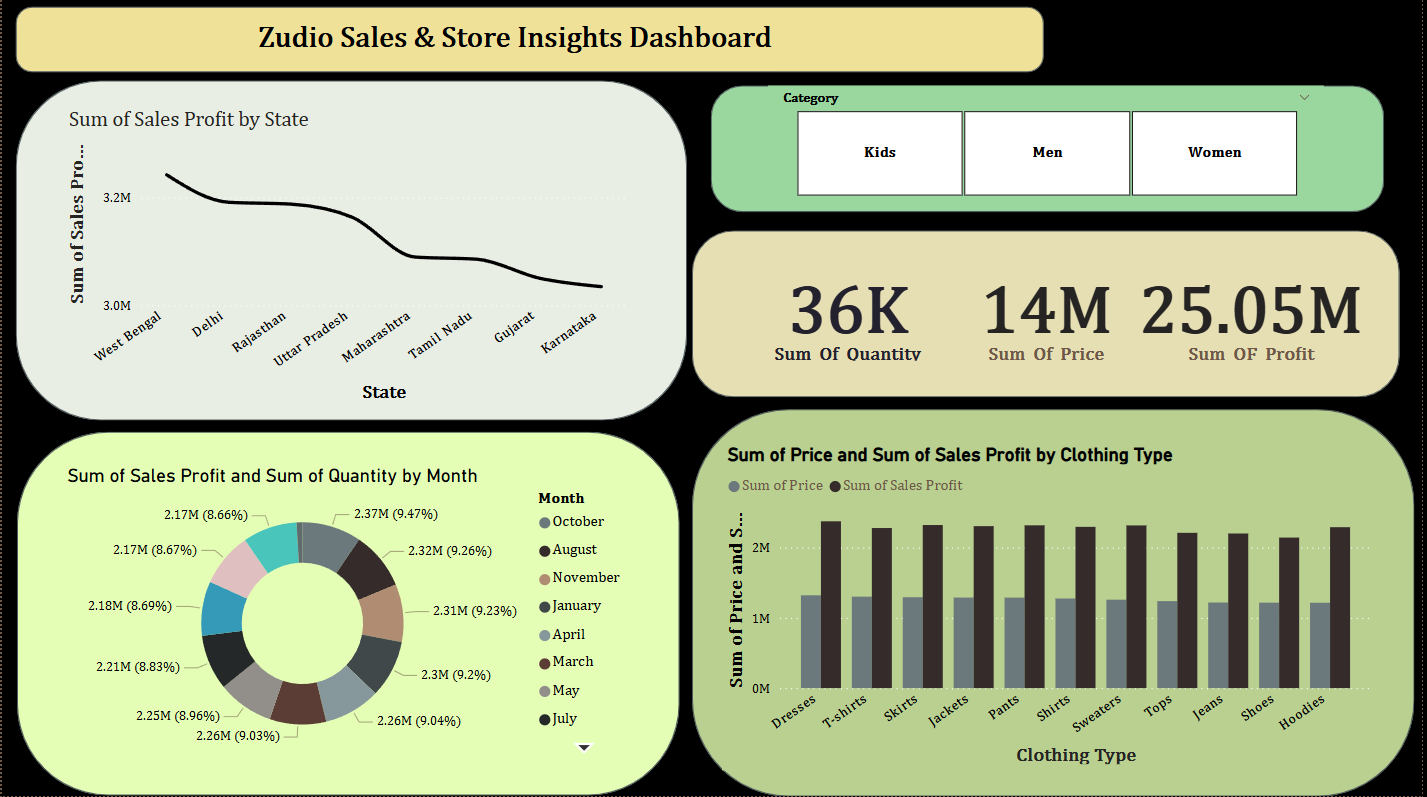

The dashboard page shown, as its layout file describes it:
{"tool":"powerbi","page":{"name":"Zudio_Sales_&_Store_Insights_Dashbord","canvas":[1280,720],"ordinal":1},"visuals":[{"type":"shape","box":[12.1,8.1,927,59.1],"z":0},{"type":"shape","box":[12.4,74.4,605.3,306.6],"z":0,"group":"g2"},{"type":"shape","box":[622,370.8,651.6,349.3],"z":0,"group":"g3"},{"type":"shape","box":[13.5,391.1,597.4,328],"z":0,"group":"g1"},{"type":"lineChart","fields":{"Category":["Zudio_sales_data.State"],"Y":["Sum(Zudio_sales_data.Sales Profit)"]},"box":[55.4,99.3,512.8,270.2],"z":1000,"group":"g2"},{"type":"shape","box":[622,209.6,638.1,150.5],"z":1000},{"type":"clusteredColumnChart","fields":{"Category":["Zudio_sales_data.Clothing Type"],"Y":["Sum(Zudio_sales_data.Price)","Sum(Zudio_sales_data.Sales Profit)"]},"box":[649.5,401.5,590.5,295],"z":1000,"group":"g3"},{"type":"donutChart","fields":{"Category":["Zudio_sales_data.Month"],"Y":["Sum(Zudio_sales_data.Sales Profit)"]},"box":[53.4,419.7,517.6,270.8],"z":1000,"group":"g1"},{"type":"shape","box":[639.5,79.3,607.2,114.2],"z":2000},{"type":"textbox","box":[131.7,16.1,661,43],"z":3000},{"type":"slicer","fields":{"Values":["Zudio_sales_data.Category"]},"box":[690.5,79.3,501.1,106.1],"z":4000},{"type":"card","fields":{"Values":["Zudio_sales_data.Sum_Of_Price"]},"box":[857.4,236.5,167.7,95.5],"z":5000},{"type":"card","fields":{"Values":["Zudio_sales_data.Sum_OF_Profit"]},"box":[1020.5,236.5,212,95.5],"z":6000},{"type":"card","fields":{"Values":["Zudio_sales_data.Sum_Of_Quantity"]},"box":[668.7,236.5,188.7,95.5],"z":7000},{"type":"group","id":"g1","title":"Group 2","box":[13.5,391.1,597.4,328],"z":8000},{"type":"group","id":"g2","title":"Group 3","box":[12.4,74.4,605.3,306.6],"z":9000},{"type":"group","id":"g3","title":"Group 4","box":[622,370.8,651.6,349.3],"z":10000}]}

Visuals, with their boxes in screenshot pixels (x1, y1, x2, y2), scaled from the page's 1280x720 canvas onto the 1427x797 screenshot:
shape: box(13, 9, 1047, 74)
shape: box(14, 82, 689, 422)
shape: box(693, 410, 1420, 796)
shape: box(15, 433, 681, 796)
lineChart - Zudio_sales_data.State x Sum(Zudio_sales_data.Sales Profit): box(62, 110, 633, 409)
shape: box(693, 232, 1405, 399)
clusteredColumnChart - Zudio_sales_data.Clothing Type x Sum(Zudio_sales_data.Price): box(724, 444, 1382, 771)
donutChart - Zudio_sales_data.Month x Sum(Zudio_sales_data.Sales Profit): box(60, 465, 637, 764)
shape: box(713, 88, 1390, 214)
textbox: box(147, 18, 884, 65)
slicer - Zudio_sales_data.Category: box(770, 88, 1328, 205)
card - Zudio_sales_data.Sum_Of_Price: box(956, 262, 1143, 368)
card - Zudio_sales_data.Sum_OF_Profit: box(1138, 262, 1374, 368)
card - Zudio_sales_data.Sum_Of_Quantity: box(745, 262, 956, 368)
"Group 2" group: box(15, 433, 681, 796)
"Group 3" group: box(14, 82, 689, 422)
"Group 4" group: box(693, 410, 1420, 796)
